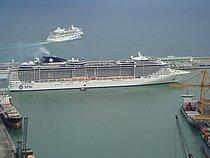Ship: (8, 50, 194, 92), (46, 22, 88, 46)
